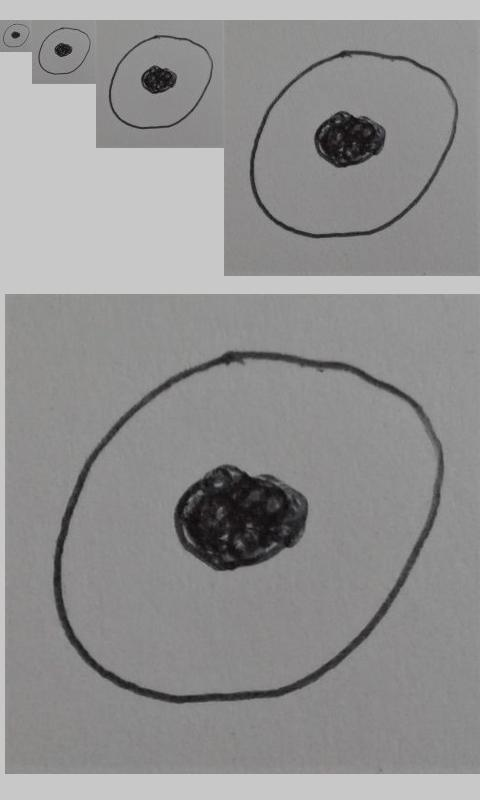radio_button: (48, 346, 449, 707), (247, 47, 462, 241), (108, 34, 214, 130), (37, 26, 92, 75), (2, 23, 31, 48)
